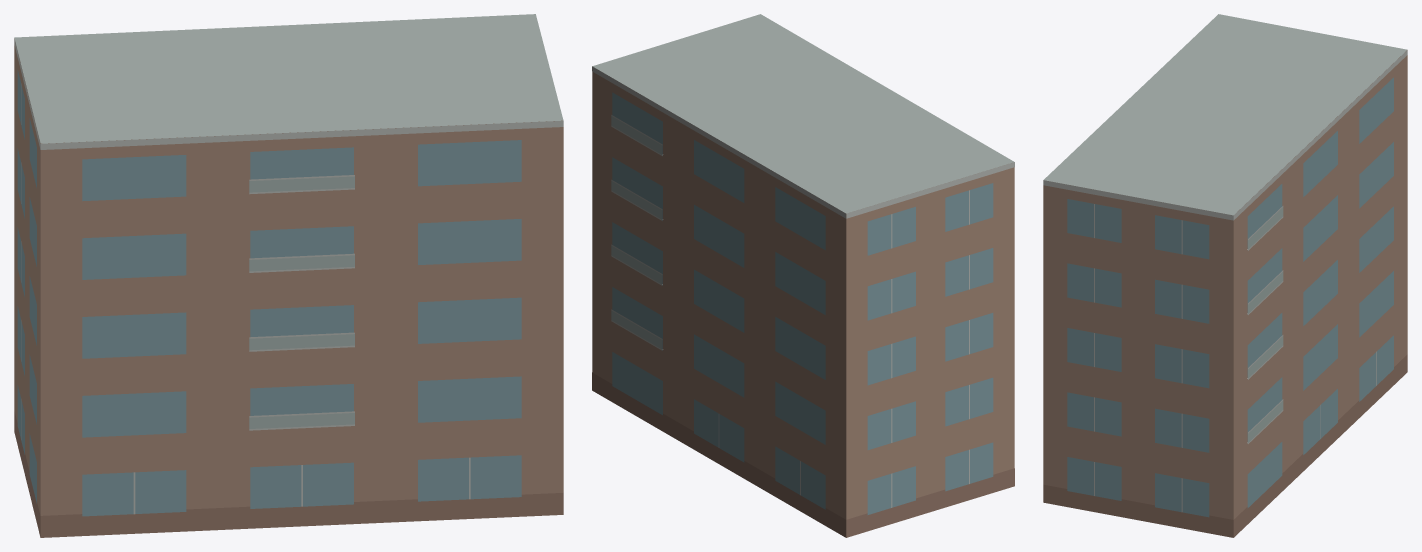
File: survey-upis-32638857.glb
3 views of the same model, side by side, from view 1: azimuth 30°, elevation 25°; view 2: azimuth 150°, elevation 25°; view 3: azimuth 270°, elevation 25° (orthographic). The views are drawn at different scales.
Parts seen in each view (by area): view 1: survey-upis-32638857.tmp; view 2: survey-upis-32638857.tmp; view 3: survey-upis-32638857.tmp.
Part boxes in pixels (<box>): survey-upis-32638857.tmp: <box>14,14,563,537</box>; survey-upis-32638857.tmp: <box>592,14,1014,537</box>; survey-upis-32638857.tmp: <box>1043,14,1407,537</box>.
Bounding box in the file's own units: 20.43 × 15.25 × 15.62.
